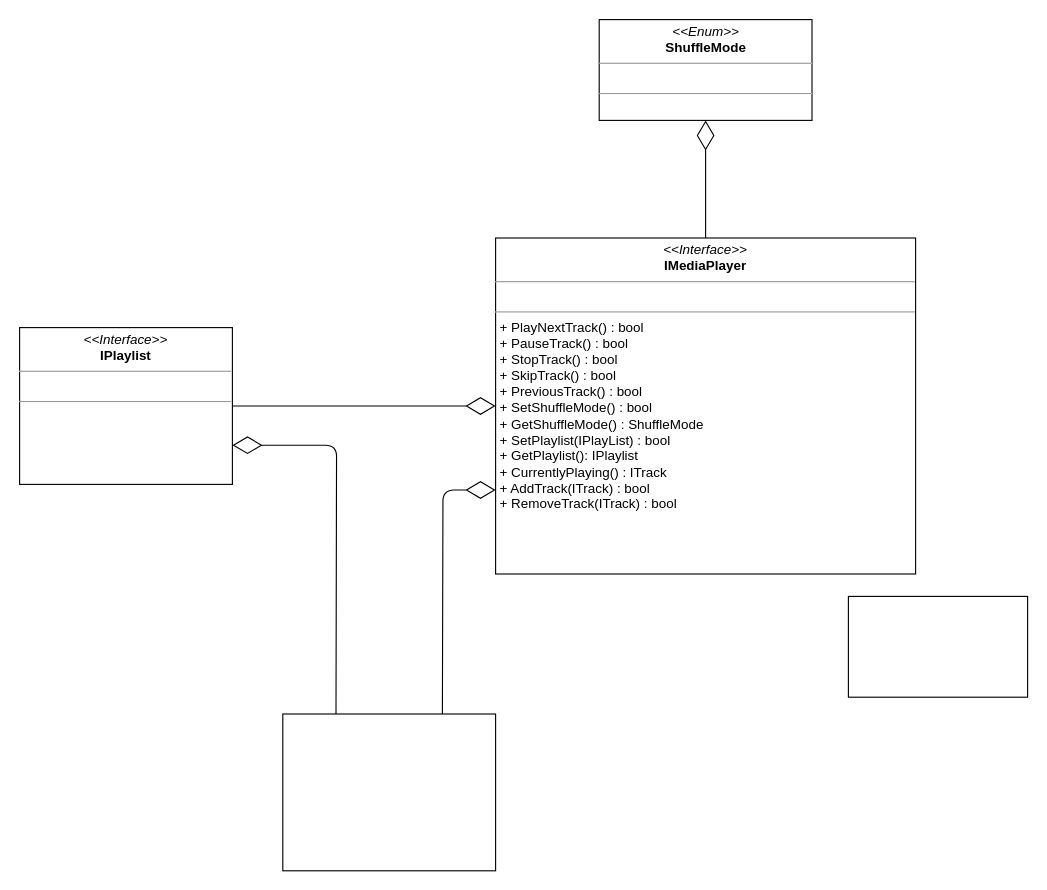
The diagram is 1047 pixels wide and 890 high, and some of its shapes have lost their labels. Each missing label, with the centre of its shape:
"<<Interface>> ITrack" belongs at pixel 389 792.
"Class + field: Type + method(): Type" belongs at pixel 937 646.
